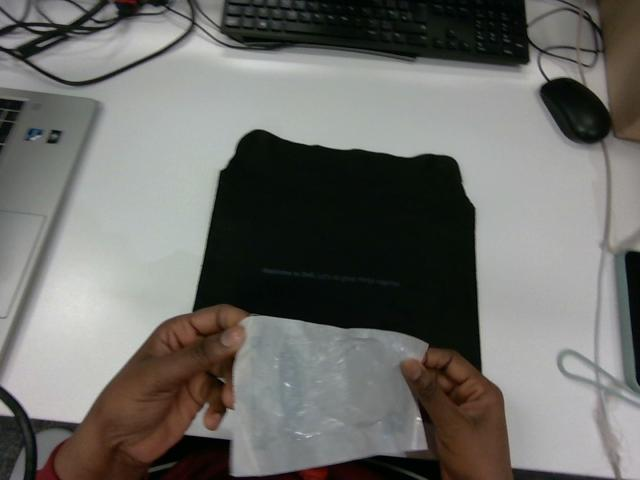gallipot: (231, 316, 427, 475)
